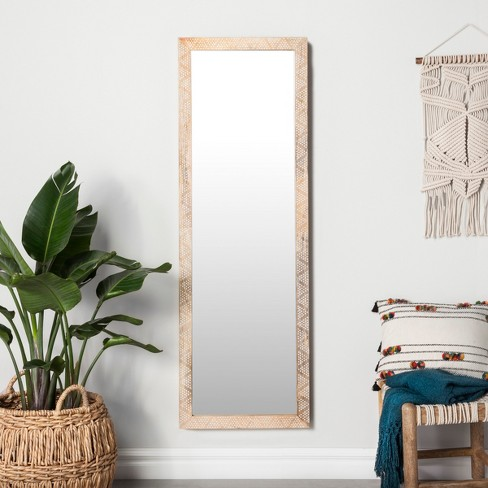Nonrec_Glass: (155, 22, 341, 449)
